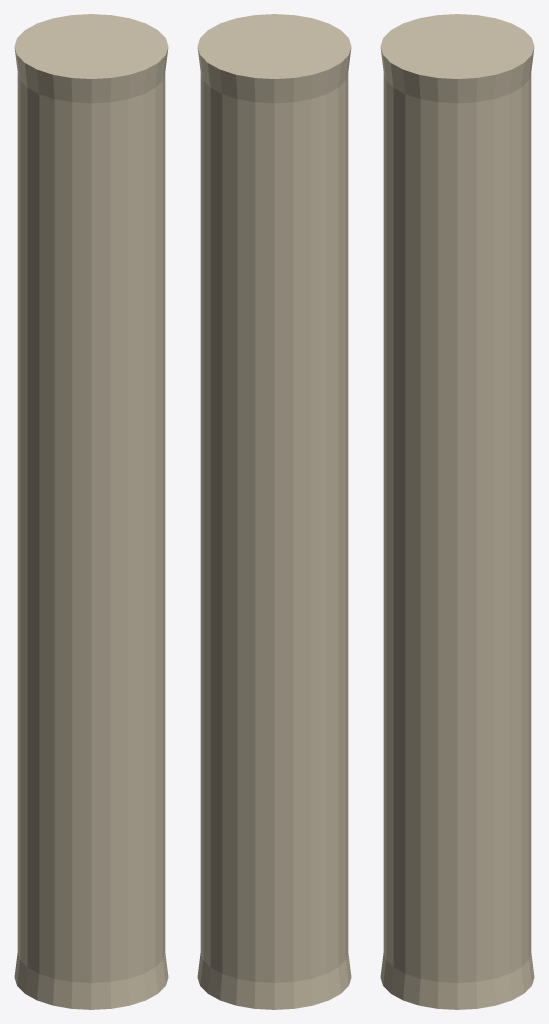
Rendered from waterfront-column.lod1.glb.
3 renders of one model, left to right at view 1: azimuth 30°, elevation 25°; view 2: azimuth 150°, elevation 25°; view 3: azimuth 270°, elevation 25°, orthographic.
Parts seen in each view (by area): view 1: waterfront-column; view 2: waterfront-column; view 3: waterfront-column.
Boxes of the visible parts, x1=… form: waterfront-column: x1=14, y1=14, x2=168, y2=1009; waterfront-column: x1=197, y1=14, x2=351, y2=1009; waterfront-column: x1=380, y1=14, x2=534, y2=1009.
Size of the model in its own units: 1.2 by 8 by 1.2.
